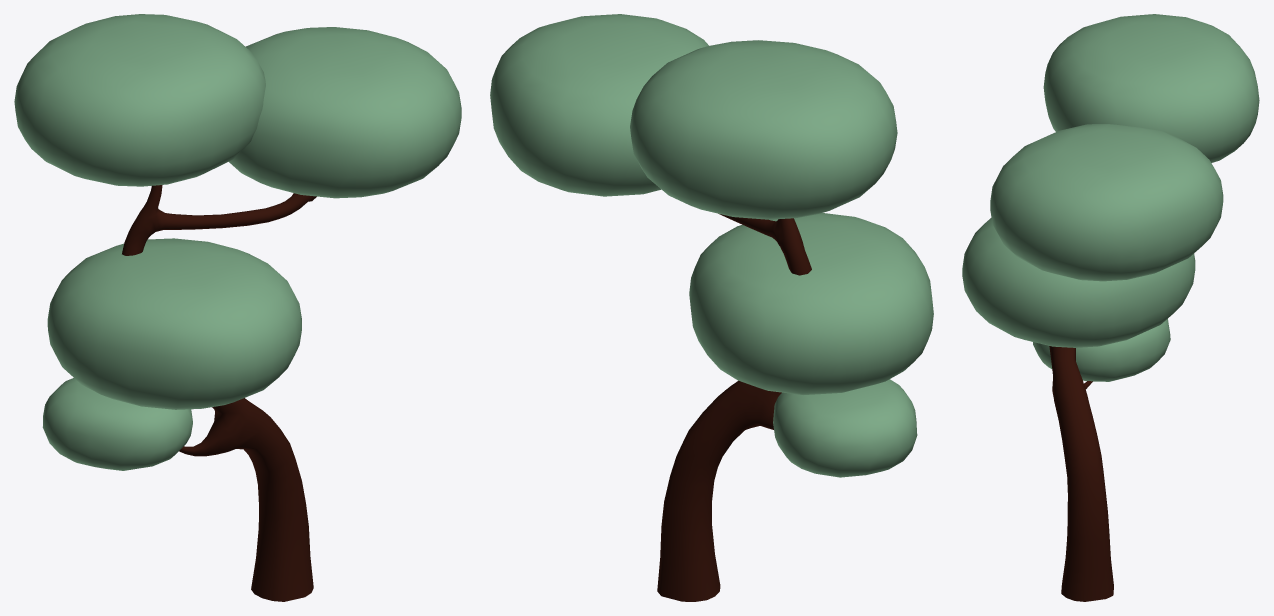
File: tree_08.fbx
3 renders of one model, left to right at view 1: azimuth 30°, elevation 25°; view 2: azimuth 150°, elevation 25°; view 3: azimuth 270°, elevation 25°, orthographic. The views are drawn at different scales.
Visible parts, largest first — view 1: tree_08; view 2: tree_08; view 3: tree_08.
Part boxes in pixels (bbox=[...]): tree_08: bbox=[14, 14, 461, 601]; tree_08: bbox=[490, 14, 933, 601]; tree_08: bbox=[962, 14, 1259, 601].
Bounding box in the file's own units: 3.61 × 2.58 × 4.82.
